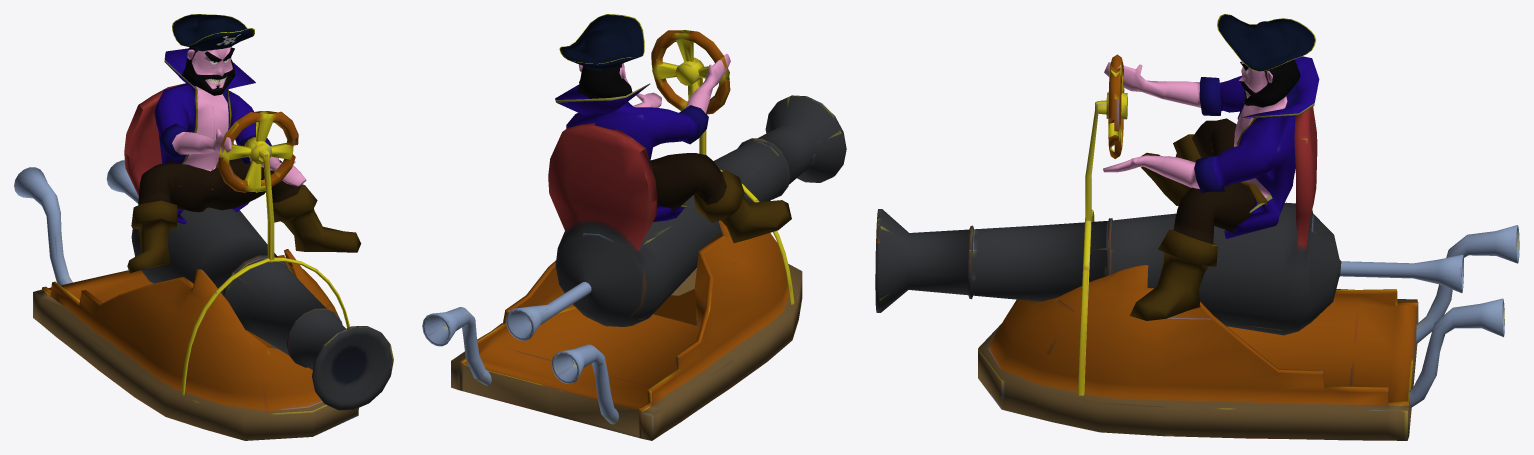
Rendered from pirataGiroIzq_000181.obj.
The picture shows the model from 3 angles, left to right: view 1: azimuth 30°, elevation 25°; view 2: azimuth 150°, elevation 25°; view 3: azimuth 270°, elevation 25°; orthographic projection. The views are drawn at different scales.
Visible parts, largest first — view 1: carro_pirata_carro_pirata.001, Pirata_PirataH_Pirata_PirataH.001; view 2: carro_pirata_carro_pirata.001, Pirata_PirataH_Pirata_PirataH.001; view 3: carro_pirata_carro_pirata.001, Pirata_PirataH_Pirata_PirataH.001.
Part boxes in pixels (left/top/right/bottom): carro_pirata_carro_pirata.001: left=14, top=83, right=393, bottom=440; Pirata_PirataH_Pirata_PirataH.001: left=127, top=14, right=361, bottom=273; carro_pirata_carro_pirata.001: left=422, top=30, right=846, bottom=440; Pirata_PirataH_Pirata_PirataH.001: left=555, top=14, right=791, bottom=243; carro_pirata_carro_pirata.001: left=875, top=54, right=1519, bottom=440; Pirata_PirataH_Pirata_PirataH.001: left=1103, top=14, right=1319, bottom=320.
Size of the model in its own units: 5.7 by 7.68 by 12.1.
Materials: 2 (2 with a texture image).
